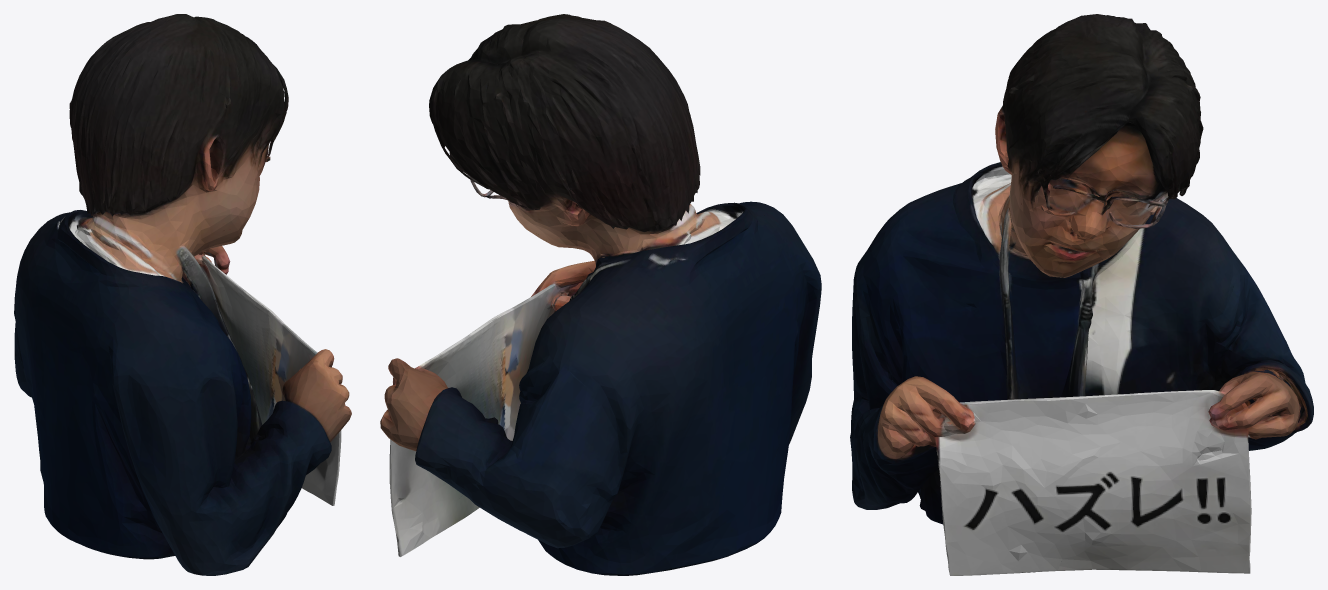
The model's file is mikawa.glb.
3 views of the same model, side by side, from view 1: azimuth 30°, elevation 25°; view 2: azimuth 150°, elevation 25°; view 3: azimuth 270°, elevation 25° (orthographic). The views are drawn at different scales.
Parts seen in each view (by area): view 1: tripo_node_2c942d83-e3b4-48b3-aa1b-3371f635cf45; view 2: tripo_node_2c942d83-e3b4-48b3-aa1b-3371f635cf45; view 3: tripo_node_2c942d83-e3b4-48b3-aa1b-3371f635cf45.
Part boxes in pixels (left/top/right/bottom): tripo_node_2c942d83-e3b4-48b3-aa1b-3371f635cf45: left=14, top=14, right=351, bottom=575; tripo_node_2c942d83-e3b4-48b3-aa1b-3371f635cf45: left=380, top=14, right=821, bottom=575; tripo_node_2c942d83-e3b4-48b3-aa1b-3371f635cf45: left=850, top=14, right=1313, bottom=575.
Size of the model in its own units: 0.5758 by 1 by 0.8353.
1 material, 1 textured.
